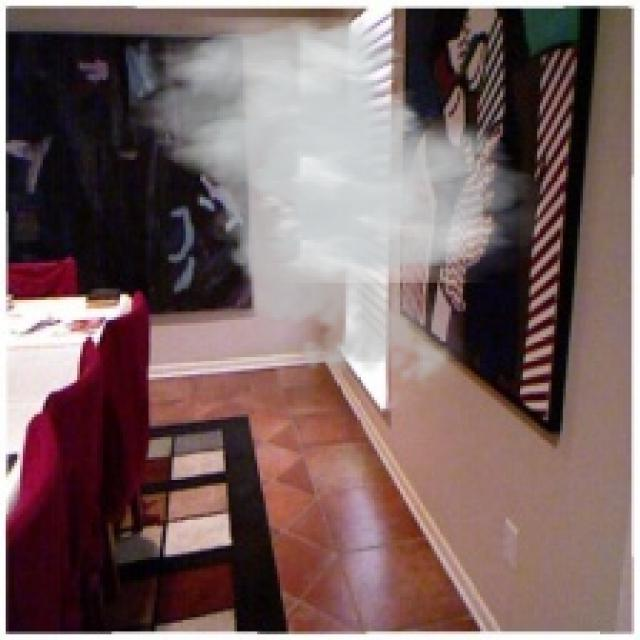smoke: (129, 17, 540, 394)
